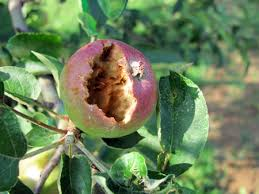damaged_apple: (58, 40, 161, 133)
